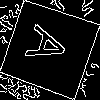A: (25, 24, 78, 72)
